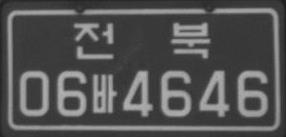0: (19, 69, 49, 116)
4: (122, 70, 153, 117), (199, 70, 229, 117)
6: (236, 70, 269, 118), (160, 68, 191, 117), (56, 69, 87, 117)
바: (91, 73, 116, 113)
전북_D: (73, 21, 211, 59)
